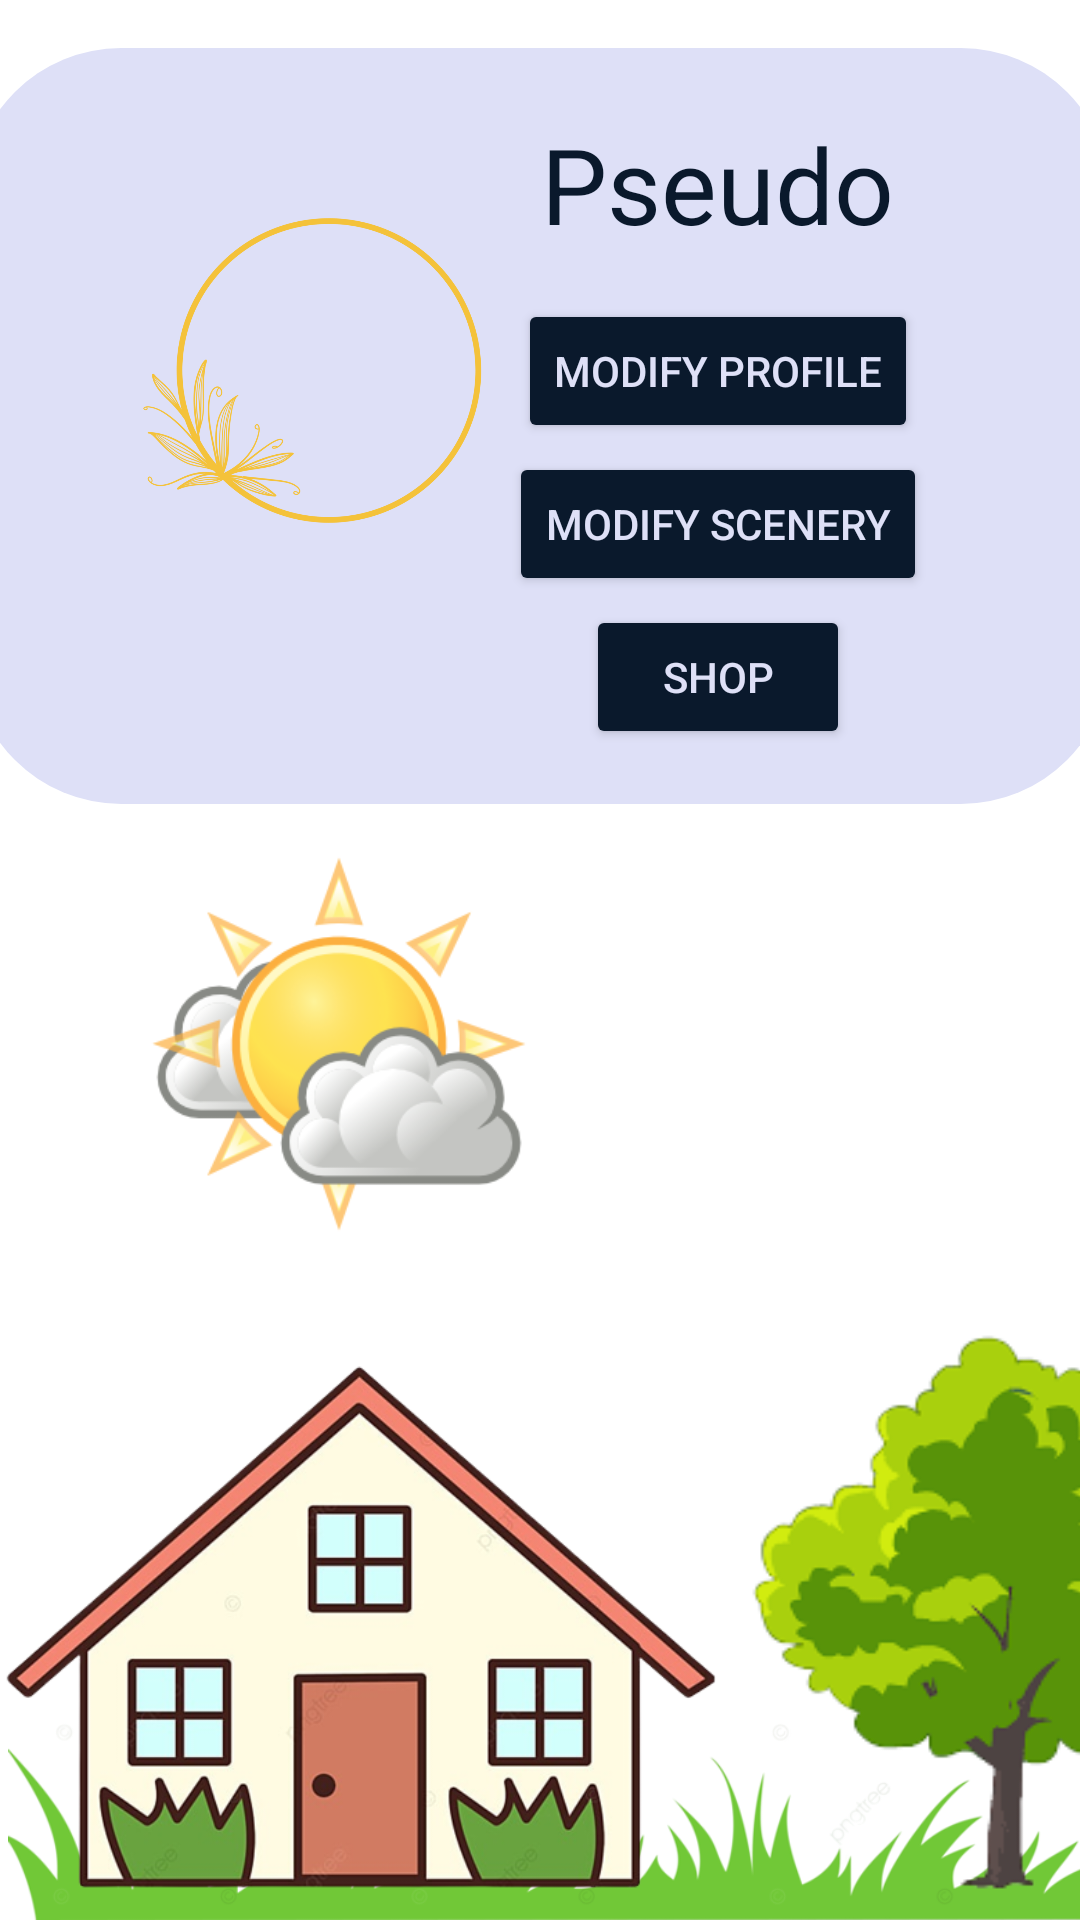

Named icons in this screenshot (1080×1920) and their bounding boxes, (x1, y1, x2, y2):
cadre: (143, 218, 481, 523)
